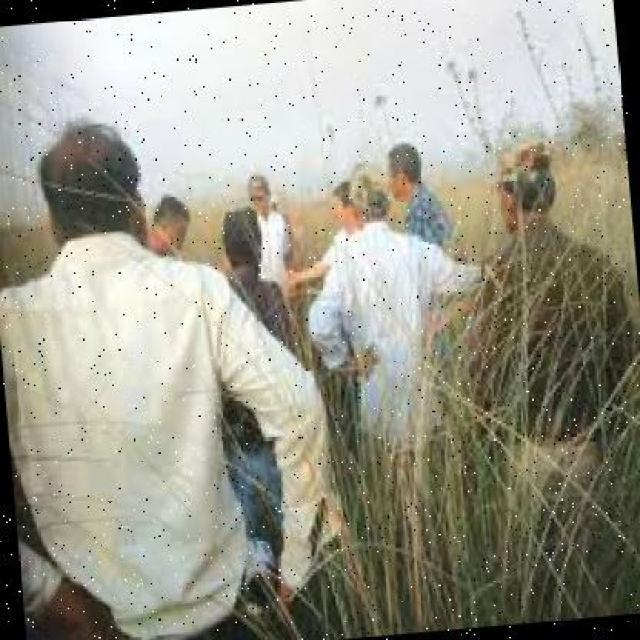poacher: (8, 123, 344, 545), (480, 114, 585, 442), (329, 163, 414, 383), (376, 143, 464, 224), (234, 172, 297, 225)
